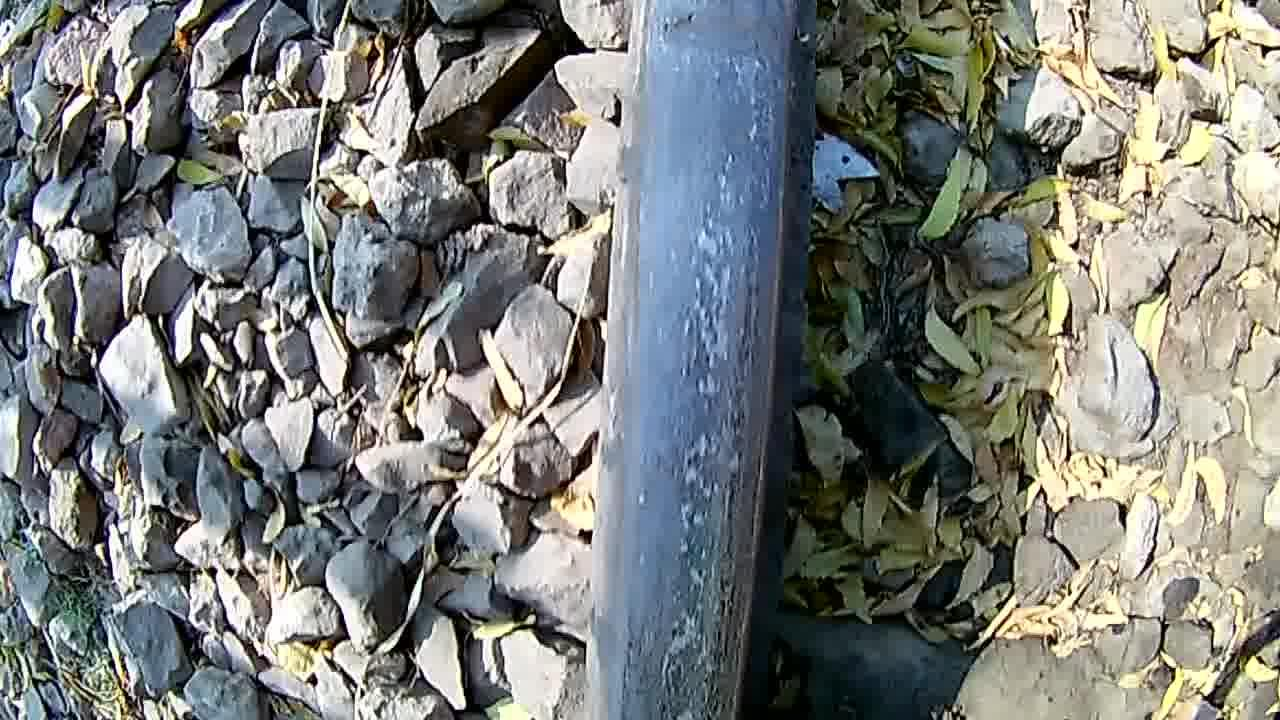bolt_missing: (621, 0, 796, 719)
